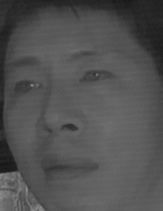eye: (78, 66, 117, 90), (9, 77, 42, 98)
mouth: (37, 148, 101, 183)
